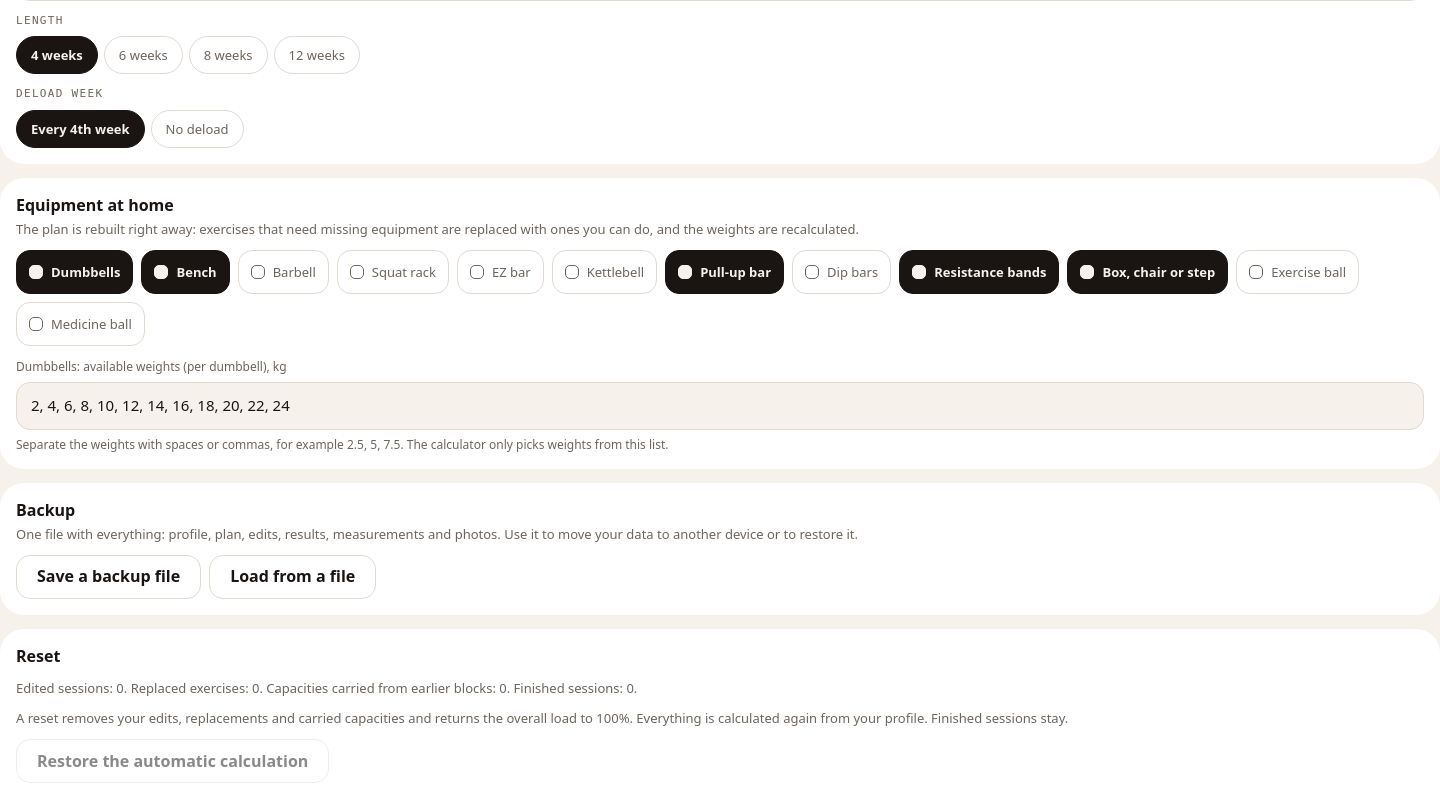
SettingsScreen: equipment › parses the typed dumbbell list
(page scrolled)
Replace the text in the field labelled "Dumbbells: available weights (per dumbbell), kg" with "10 2.5 5, 7.5". click: (720, 406)
box: left=16, top=382, right=1424, bottom=430
Then press Enter
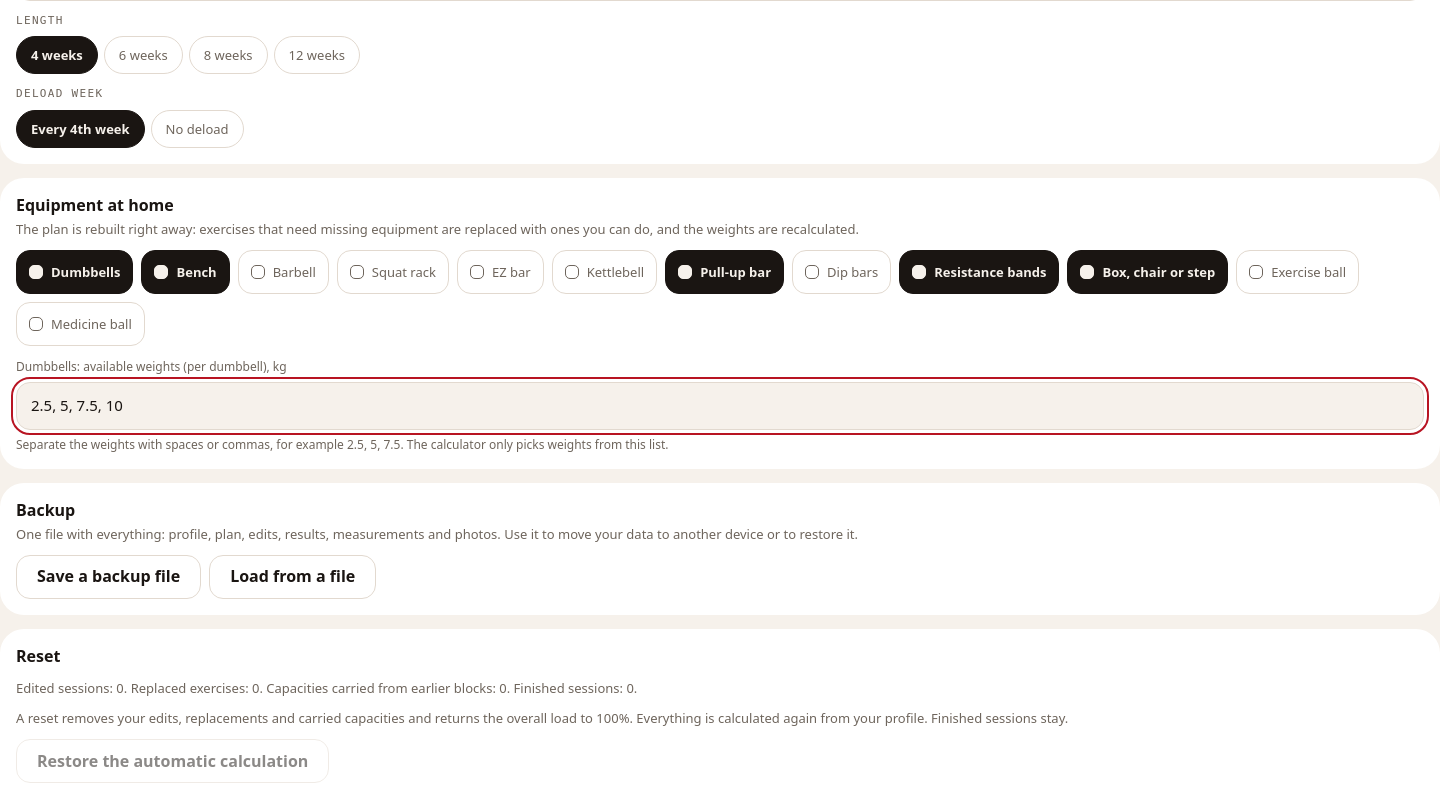
Check: the field labelled "Dumbbells: available weights (per dumbbell), kg" holds "2.5, 5, 7.5, 10", box left=16, top=382, right=1424, bottom=430
